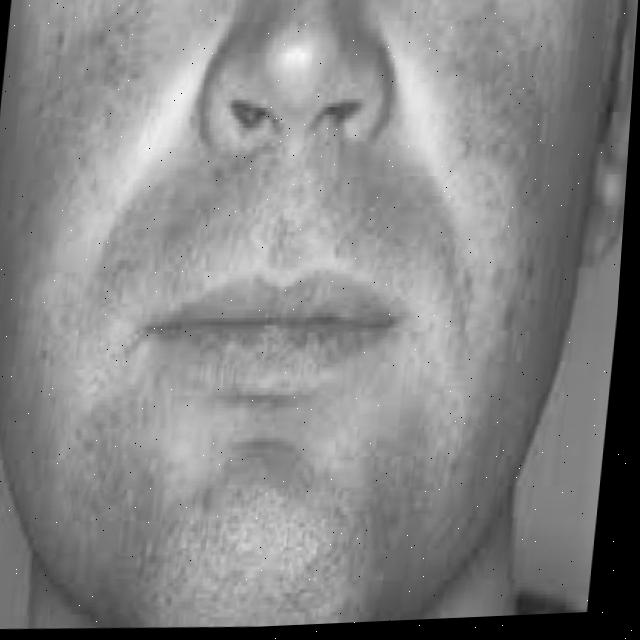Rosacea: (392, 0, 573, 197), (0, 0, 180, 164)
